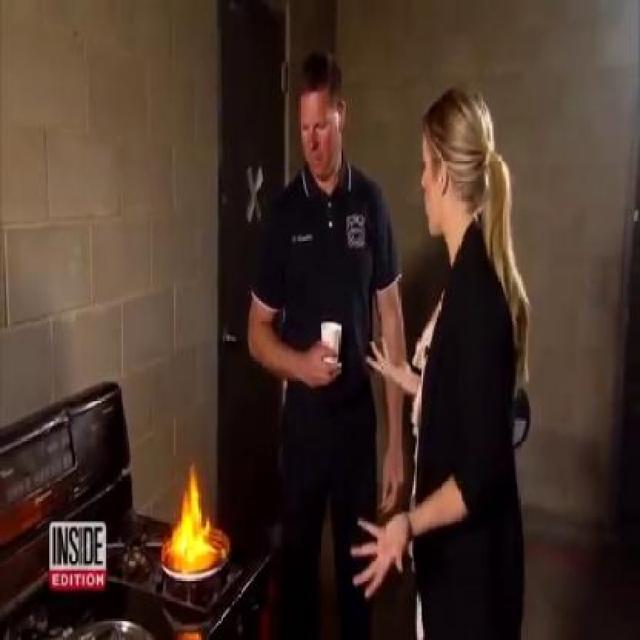fire: (157, 453, 230, 572)
